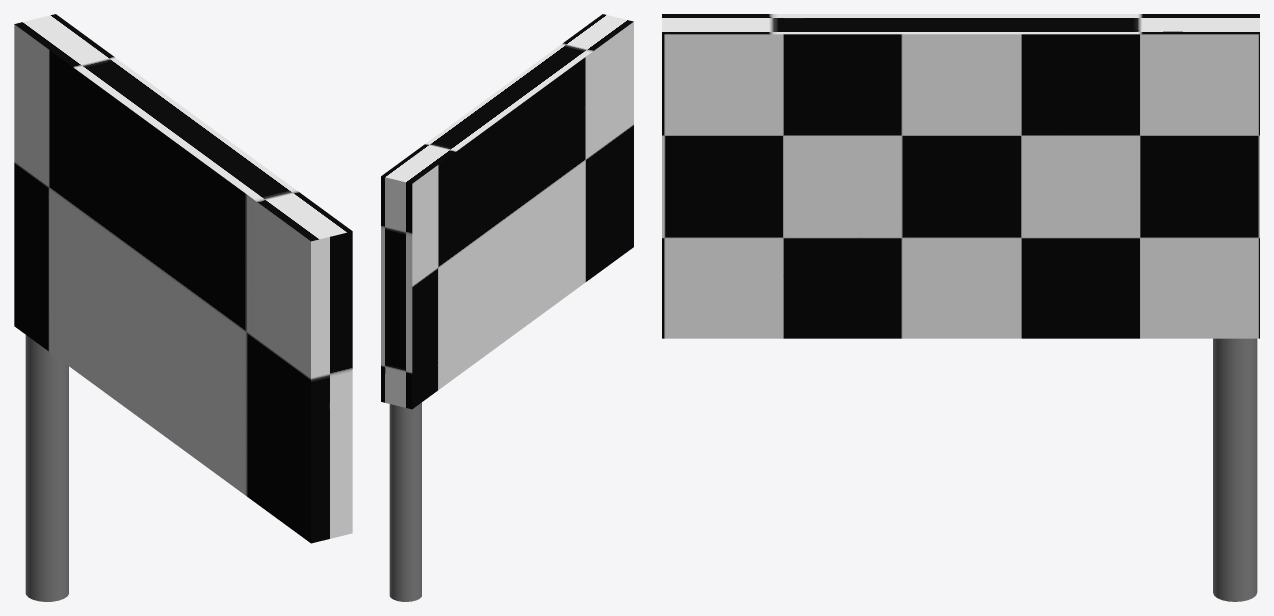
File: FlagStuffs.fbx
The picture shows the model from 3 angles, left to right: view 1: azimuth 30°, elevation 25°; view 2: azimuth 150°, elevation 25°; view 3: azimuth 270°, elevation 25°; orthographic projection. The views are drawn at different scales.
Parts seen in each view (by area): view 1: pCube1, pCylinder1; view 2: pCube1, pCylinder1; view 3: pCube1, pCylinder1.
Part boxes in pixels (left/top/right/bottom): pCube1: left=14, top=14, right=352, bottom=543; pCylinder1: left=25, top=335, right=68, bottom=601; pCube1: left=381, top=14, right=633, bottom=409; pCylinder1: left=389, top=402, right=421, bottom=601; pCube1: left=662, top=14, right=1259, bottom=338; pCylinder1: left=1213, top=338, right=1257, bottom=601.
Bounding box in the file's own units: 0.5313 × 6.88 × 6.56.
2 materials, 1 textured.
